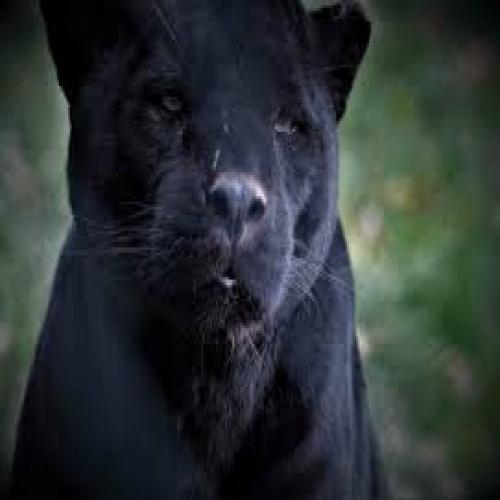panther-endangered: (14, 0, 392, 500)
